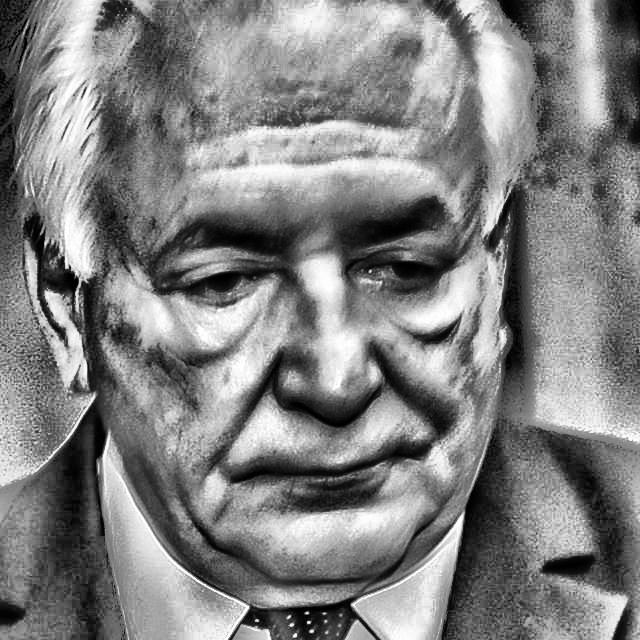sad: (76, 99, 493, 571)
